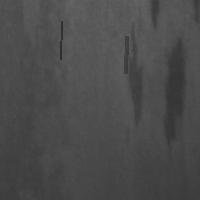inclusion: (161, 34, 190, 151), (121, 20, 145, 131), (147, 1, 164, 30), (58, 19, 63, 61), (123, 34, 128, 75)
